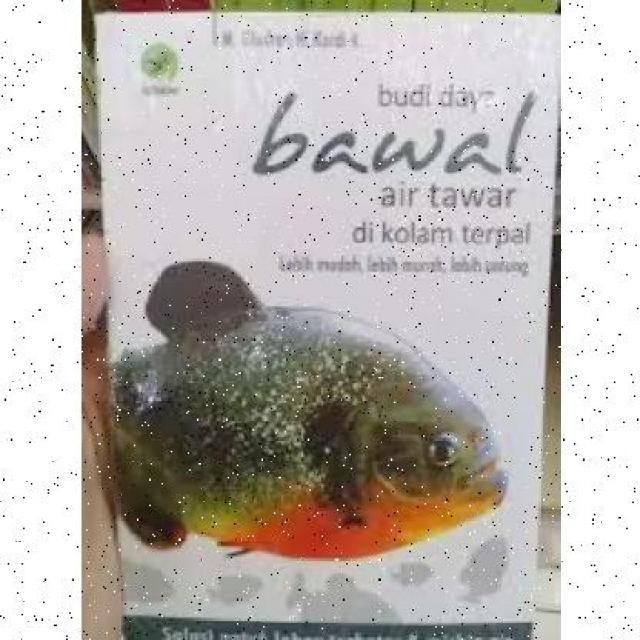ikan-pacu: (117, 304, 517, 552)
